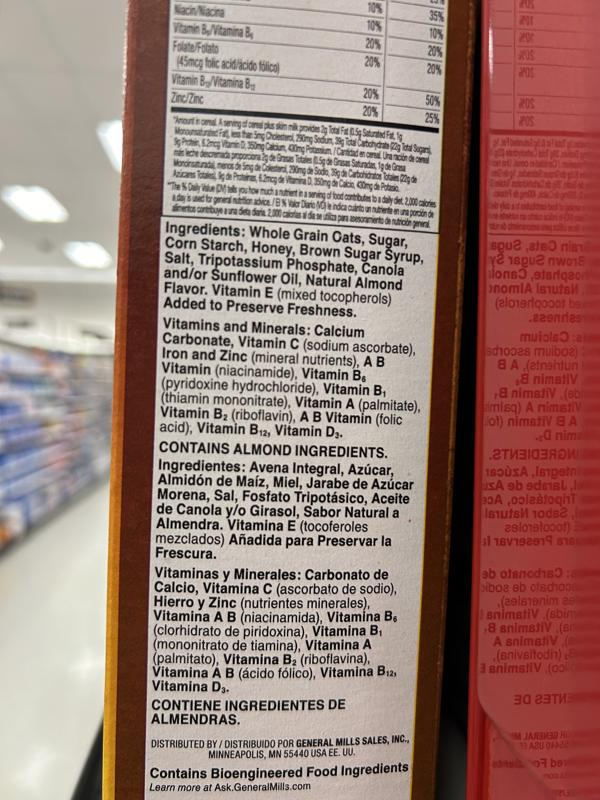ingredients: (162, 218, 425, 318)
